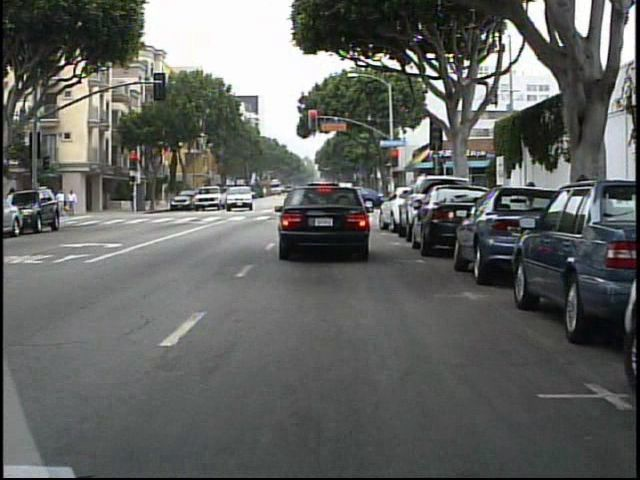person: (66, 189, 81, 218), (59, 186, 69, 222), (65, 187, 66, 218)
